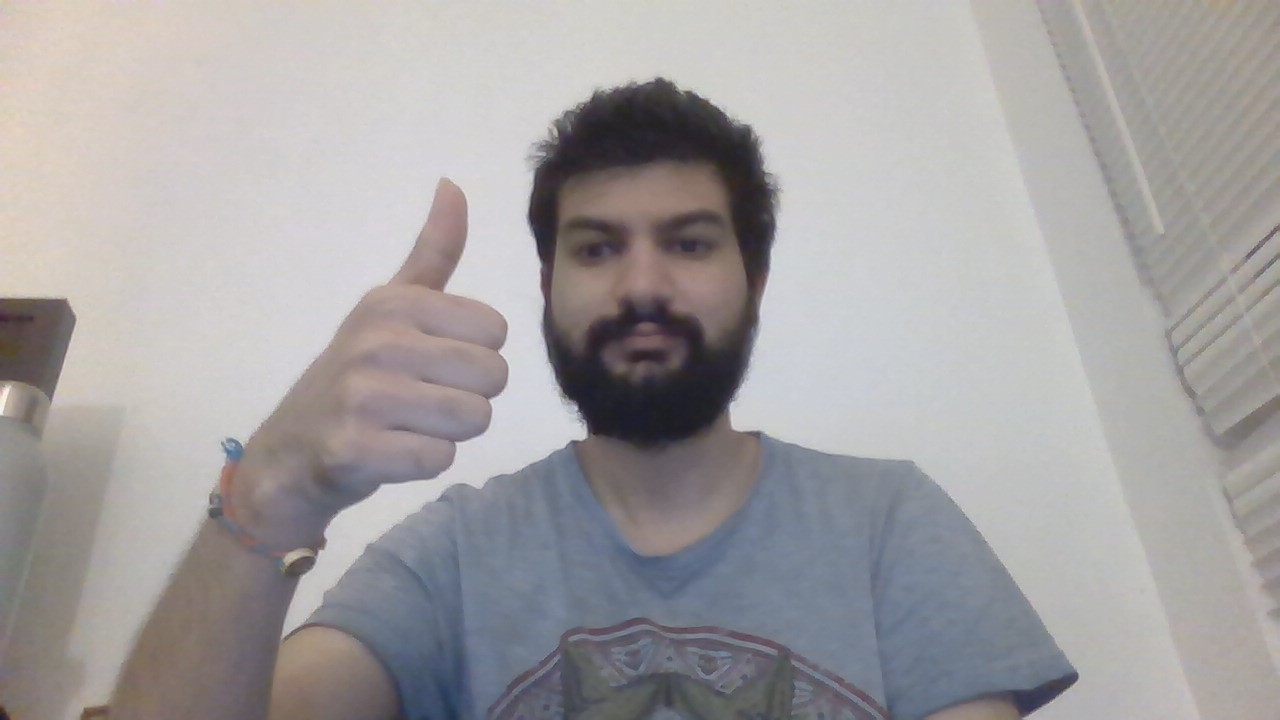up: (319, 170, 530, 492)
